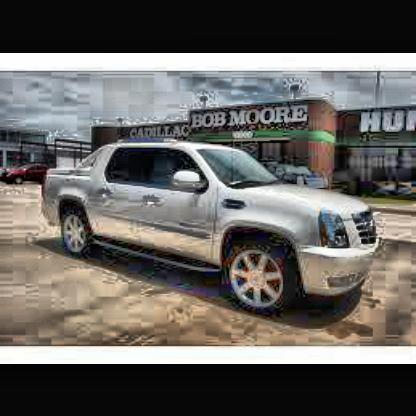Cadillac Escalade EXT Crew Cab 2007: (41, 138, 383, 321)
